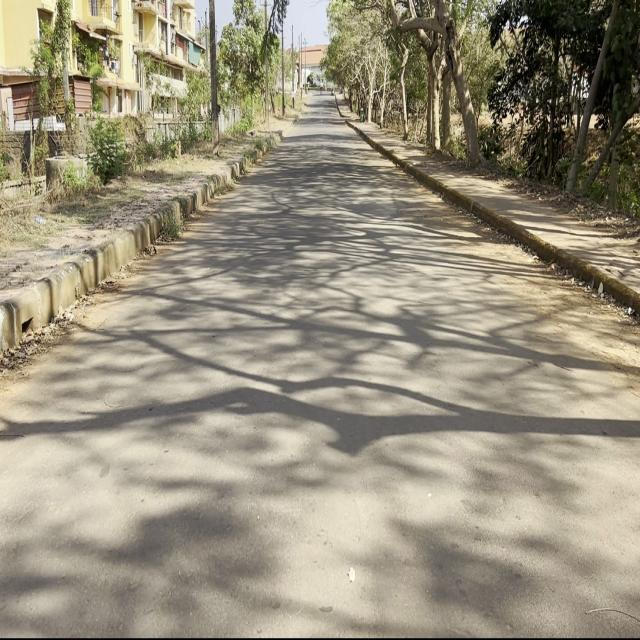Road: (3, 100, 635, 632)
